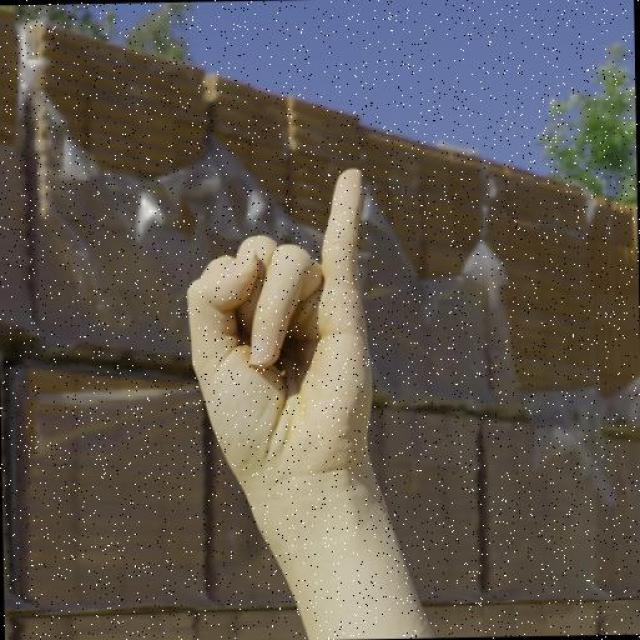I: (180, 163, 379, 496)
